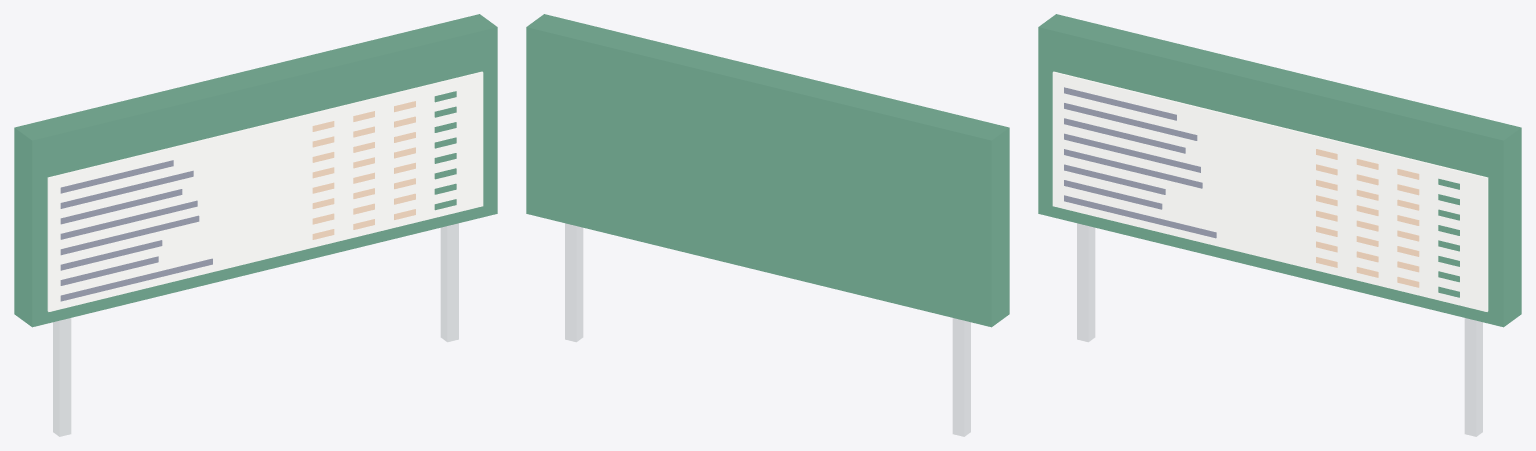
The model's file is Blender_Scoreboard_1.glb.
3 views of the same model, side by side, from view 1: azimuth 30°, elevation 25°; view 2: azimuth 150°, elevation 25°; view 3: azimuth 330°, elevation 25° (orthographic).
Parts seen in each view (by area): view 1: Blender_Scoreboard_1; view 2: Blender_Scoreboard_1; view 3: Blender_Scoreboard_1.
Boxes of the visible parts, box(x1,y1,x2,y2) form: Blender_Scoreboard_1: box(14, 14, 497, 436); Blender_Scoreboard_1: box(526, 14, 1009, 436); Blender_Scoreboard_1: box(1038, 14, 1521, 436).
Bounding box in the file's own units: 12 × 7.6 × 0.87.
